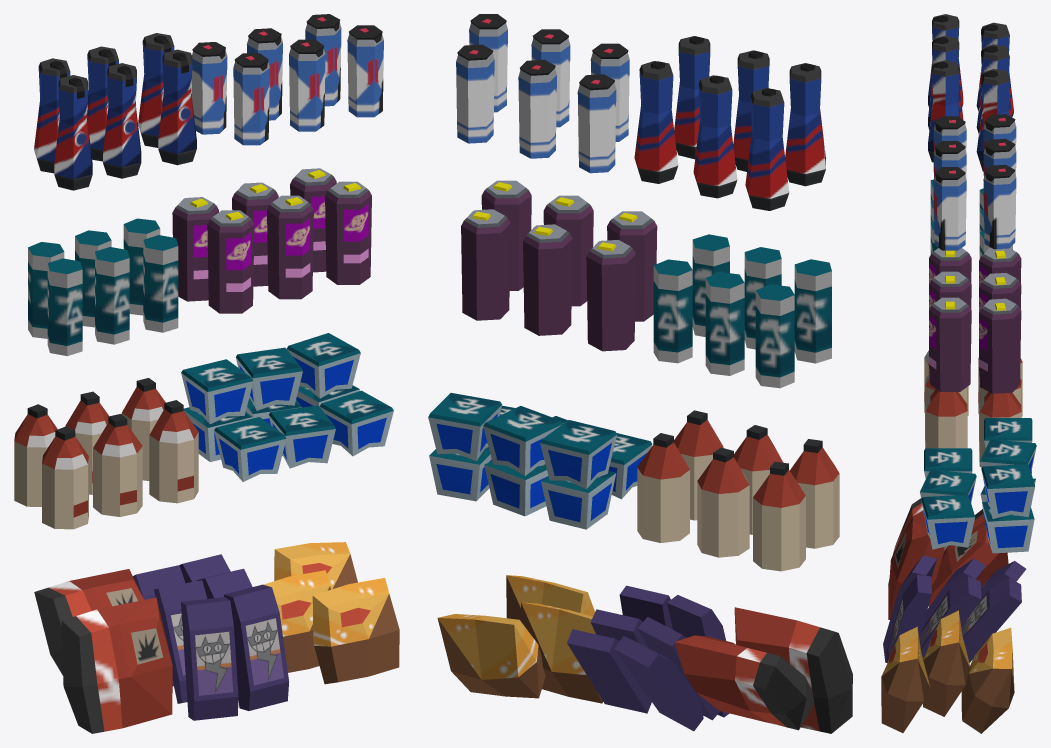
File: SM_Prop_Food_Shelf_02_Insert_01.fbx
3 renders of one model, left to right at view 1: azimuth 30°, elevation 25°; view 2: azimuth 150°, elevation 25°; view 3: azimuth 270°, elevation 25°, orthographic. The views are drawn at different scales.
Parts seen in each view (by area): view 1: SM_Prop_Food_Shelf_02_Insert_01; view 2: SM_Prop_Food_Shelf_02_Insert_01; view 3: SM_Prop_Food_Shelf_02_Insert_01.
Boxes of the visible parts, x1,y1,x2,y2 form: SM_Prop_Food_Shelf_02_Insert_01: [14, 14, 399, 733]; SM_Prop_Food_Shelf_02_Insert_01: [428, 14, 852, 733]; SM_Prop_Food_Shelf_02_Insert_01: [881, 14, 1036, 733].
Bounding box in the file's own units: 96.15 × 175 × 41.96.
